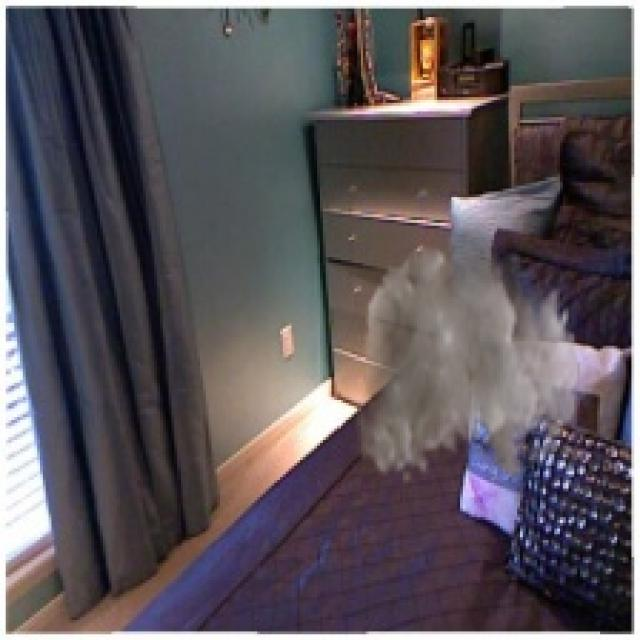smoke: (354, 214, 580, 486)
